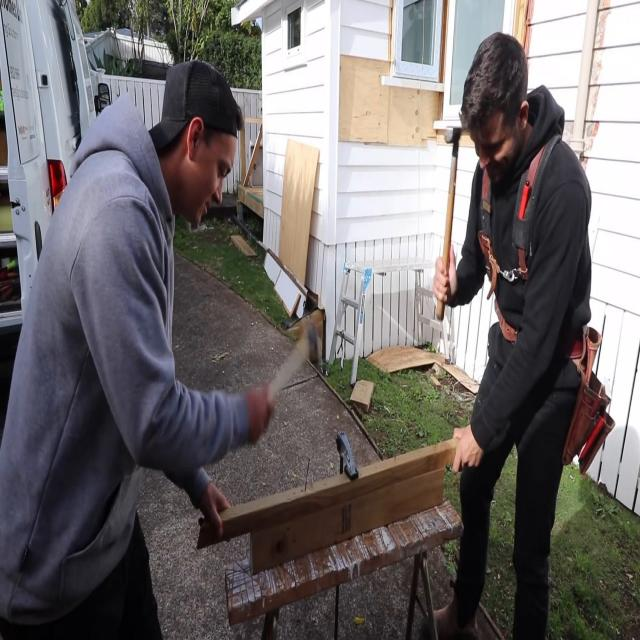hammer: (436, 127, 465, 324)
